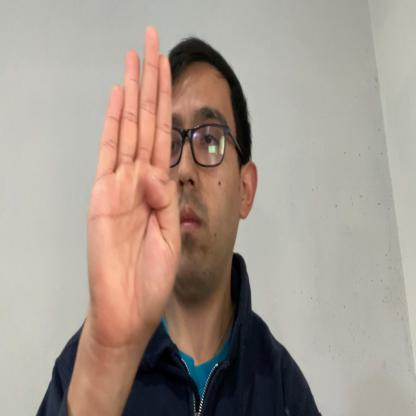B: (86, 24, 182, 344)
